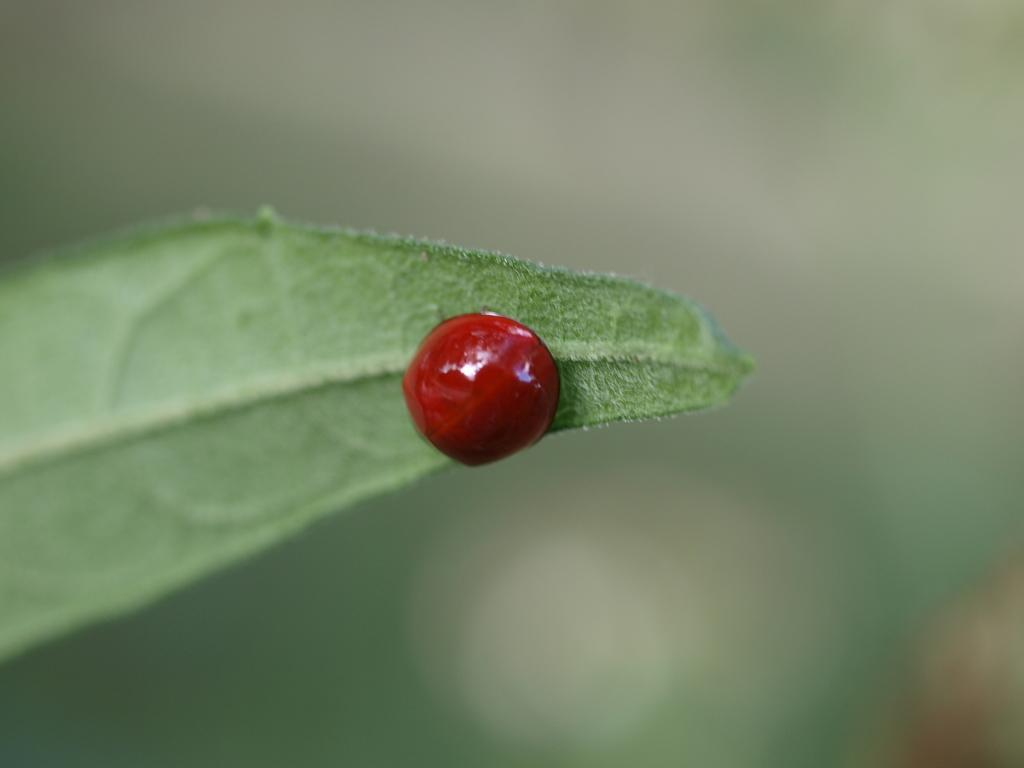ladybug: (399, 307, 567, 471)
